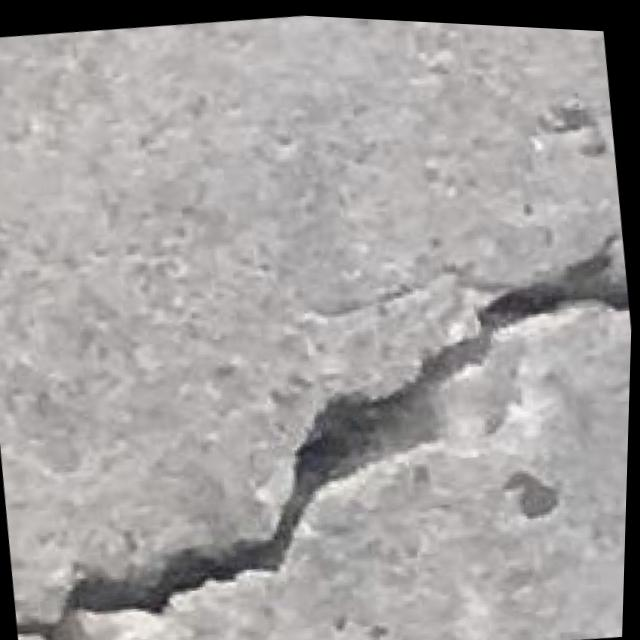Crack: (0, 168, 636, 640)
